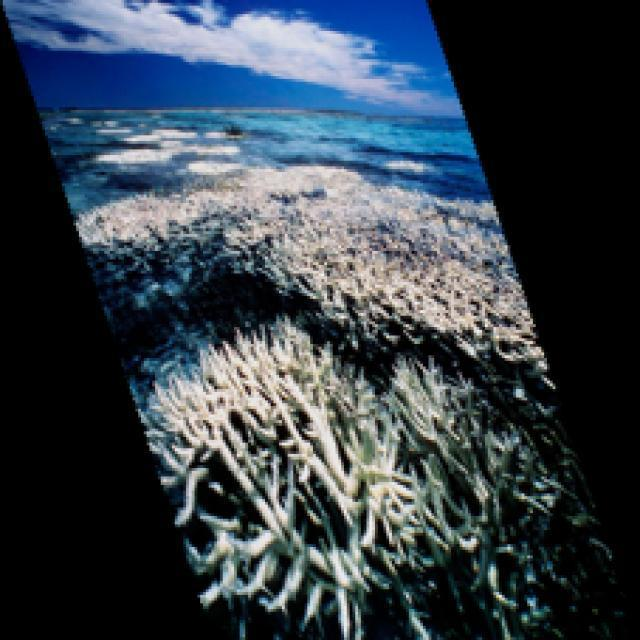Bleached: (73, 163, 551, 640), (134, 321, 528, 640)
